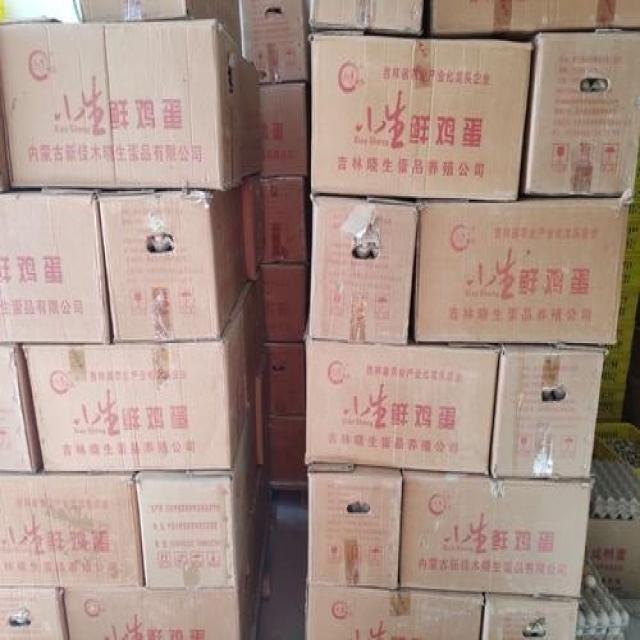box: (0, 17, 241, 190), (24, 300, 247, 472), (311, 30, 534, 200), (61, 468, 271, 637), (415, 198, 630, 343), (304, 341, 501, 475), (140, 382, 260, 584), (398, 475, 594, 597), (98, 182, 248, 341), (518, 31, 639, 198), (0, 188, 112, 344), (307, 194, 419, 350), (0, 467, 144, 588), (490, 343, 605, 481), (307, 472, 405, 585), (306, 583, 485, 637), (78, 1, 244, 56), (428, 0, 639, 32), (240, 1, 312, 85), (0, 342, 42, 469), (481, 591, 580, 638), (262, 81, 309, 177), (262, 176, 309, 264), (237, 266, 266, 408), (586, 520, 639, 597), (308, 1, 427, 35), (262, 264, 309, 341), (1, 586, 68, 638), (266, 339, 305, 416), (267, 411, 306, 481), (252, 341, 273, 468), (244, 57, 264, 180), (244, 176, 267, 278), (261, 432, 275, 523)
